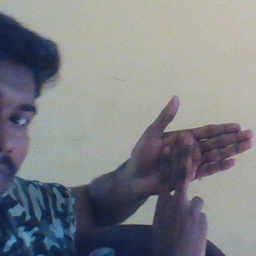N: (125, 93, 252, 233)
